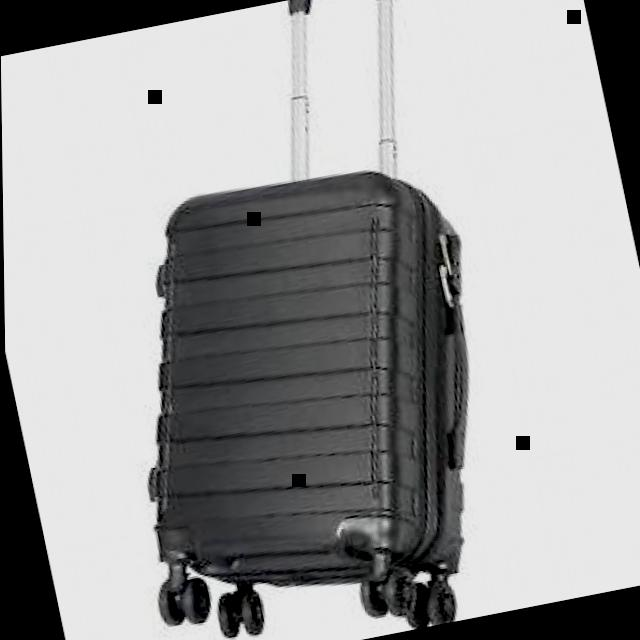luggage: (70, 137, 529, 631)
